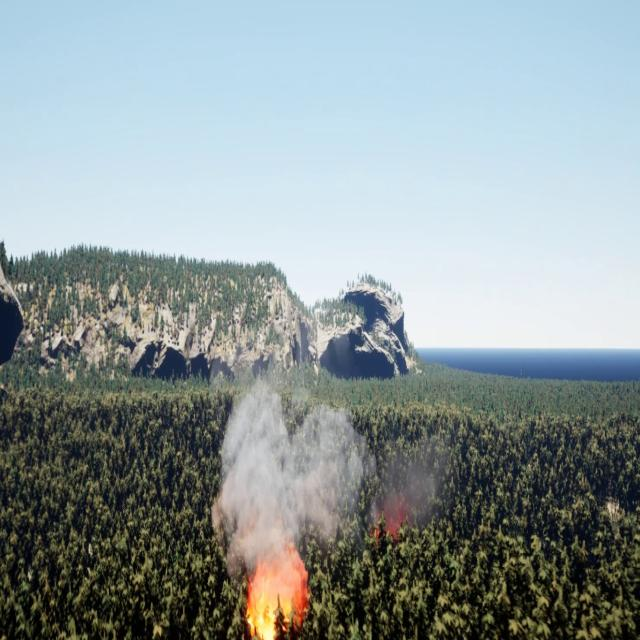fire: (247, 548, 308, 639)
smoke: (210, 378, 368, 575), (374, 447, 458, 544)
